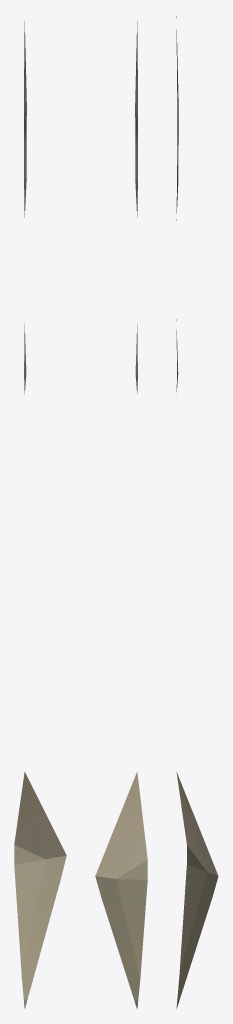
The picture shows the model from 3 angles, left to right: view 1: azimuth 30°, elevation 25°; view 2: azimuth 210°, elevation 25°; view 3: azimuth 330°, elevation 25°; orthographic projection.
Bounding box in the file's own units: 0.0331 × 0.7494 × 0.0142.
1 material, 1 textured.
